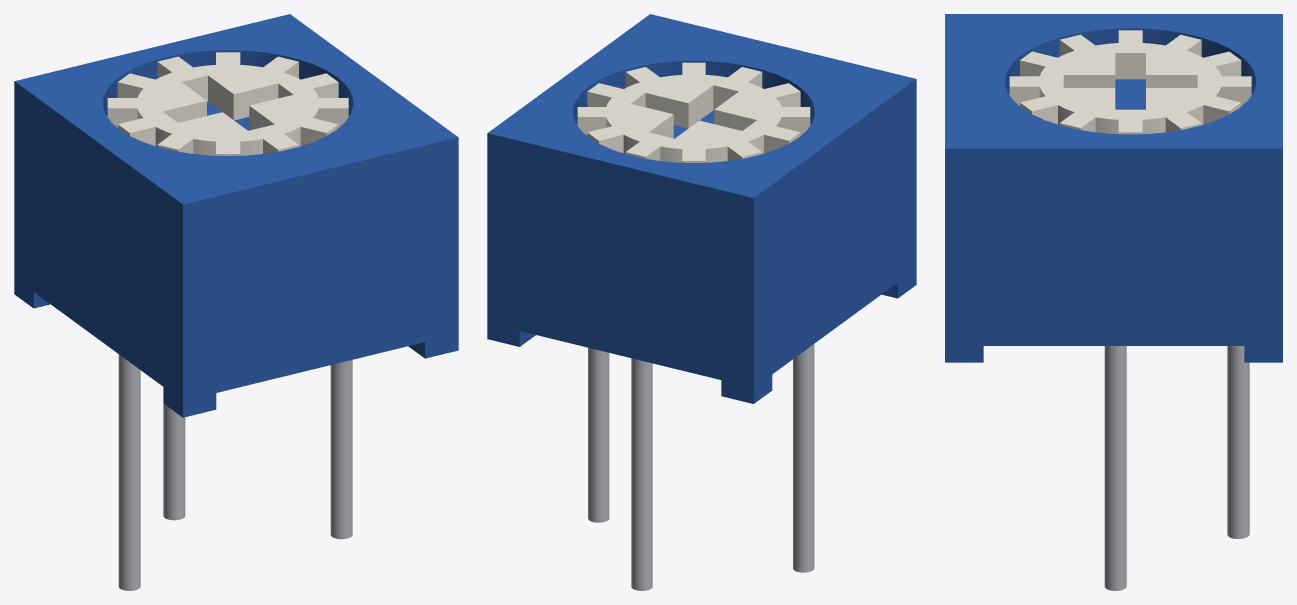
File: trimmer-3362p.glb
3 renders of one model, left to right at view 1: azimuth 30°, elevation 25°; view 2: azimuth 150°, elevation 25°; view 3: azimuth 270°, elevation 25°, orthographic. The views are drawn at different scales.
Parts seen in each view (by area): view 1: object 1, rotor, pin-1, pin-3, pin-2; view 2: object 1, rotor, pin-2, pin-1, pin-3; view 3: object 1, rotor, pin-3, pin-2.
Part boxes in pixels (left/top/right/bottom): object 1: left=14, top=14, right=458, bottom=417; rotor: left=107, top=52, right=348, bottom=155; pin-1: left=118, top=354, right=140, bottom=590; pin-3: left=330, top=360, right=352, bottom=539; pin-2: left=163, top=387, right=185, bottom=520; object 1: left=487, top=14, right=916, bottom=403; rotor: left=577, top=62, right=810, bottom=162; pin-2: left=631, top=358, right=652, bottom=590; pin-1: left=793, top=344, right=814, bottom=572; pin-3: left=588, top=347, right=609, bottom=522; object 1: left=945, top=14, right=1282, bottom=362; rotor: left=1009, top=30, right=1251, bottom=134; pin-3: left=1104, top=346, right=1126, bottom=590; pin-2: left=1227, top=346, right=1249, bottom=538.
Size of the model in its own units: 0.0066 by 0.0103 by 0.00699.
